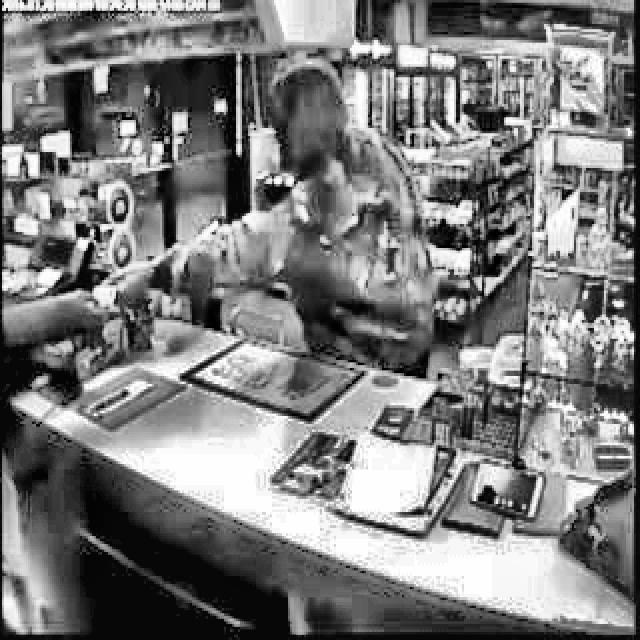robbery: (94, 67, 437, 373)
